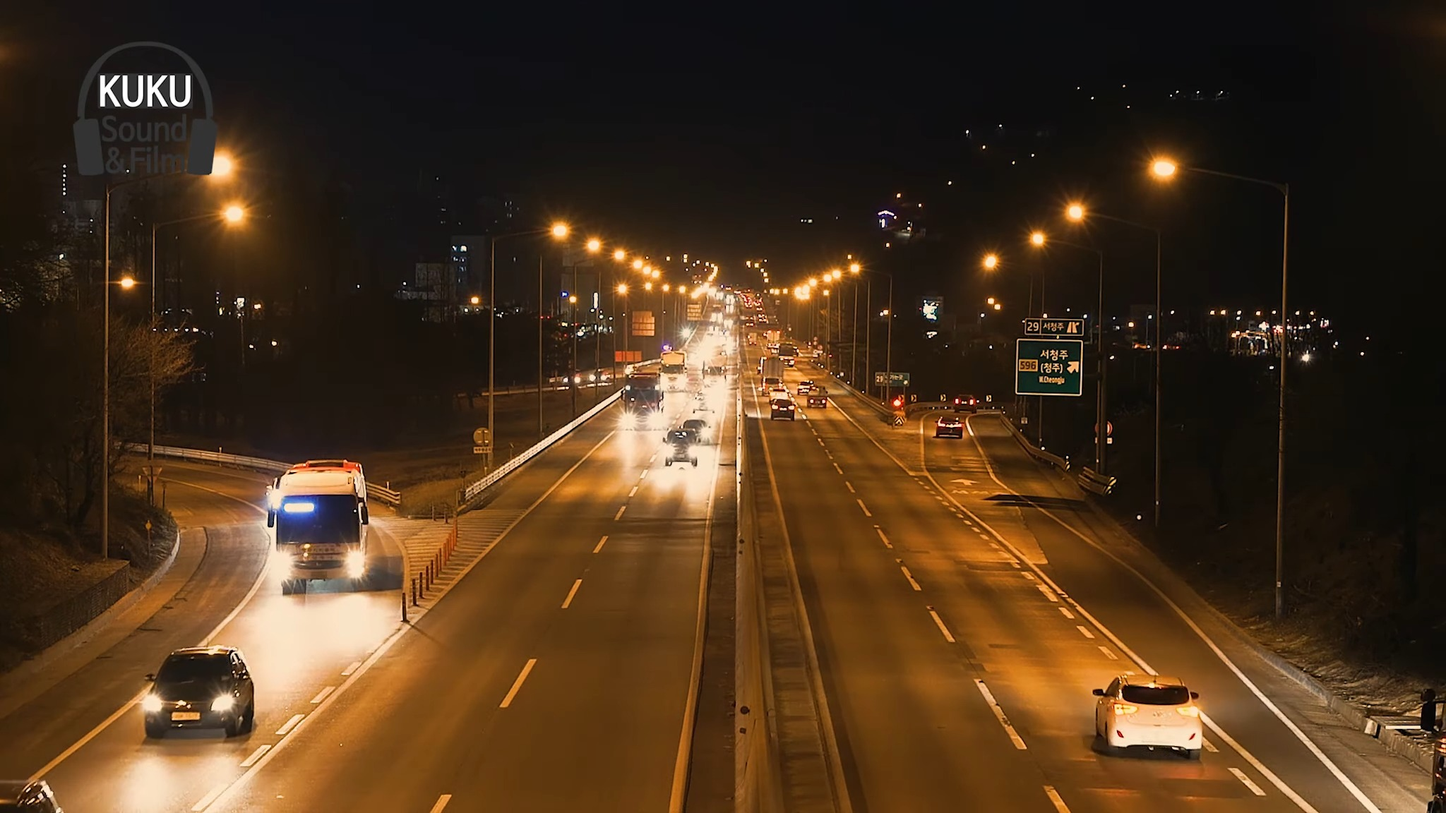car: (142, 646, 253, 749), (1091, 673, 1209, 758)
truck: (262, 470, 379, 596)
